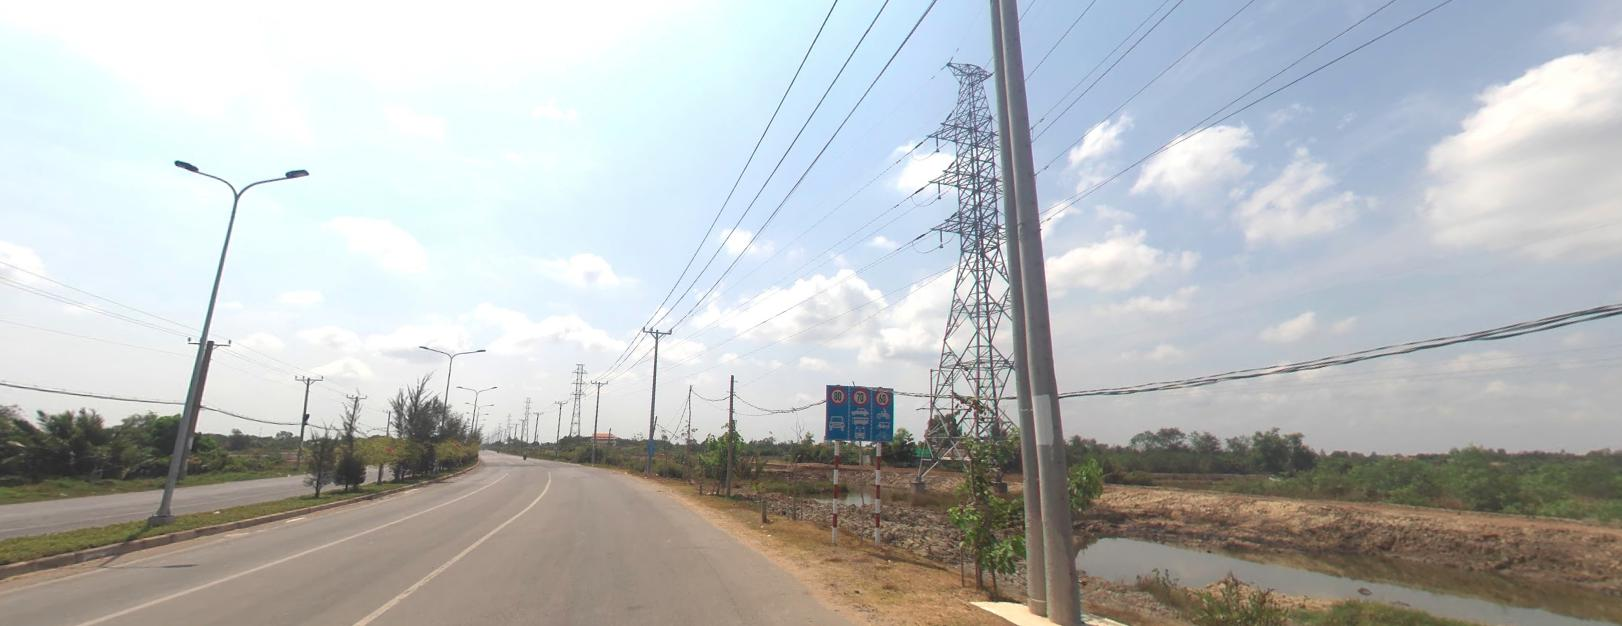Gioi han toc do: (873, 385, 891, 404), (829, 385, 846, 403), (829, 385, 845, 403), (851, 386, 869, 403), (829, 386, 845, 403), (851, 386, 868, 403), (852, 386, 868, 404), (874, 388, 889, 405), (874, 388, 889, 404)
